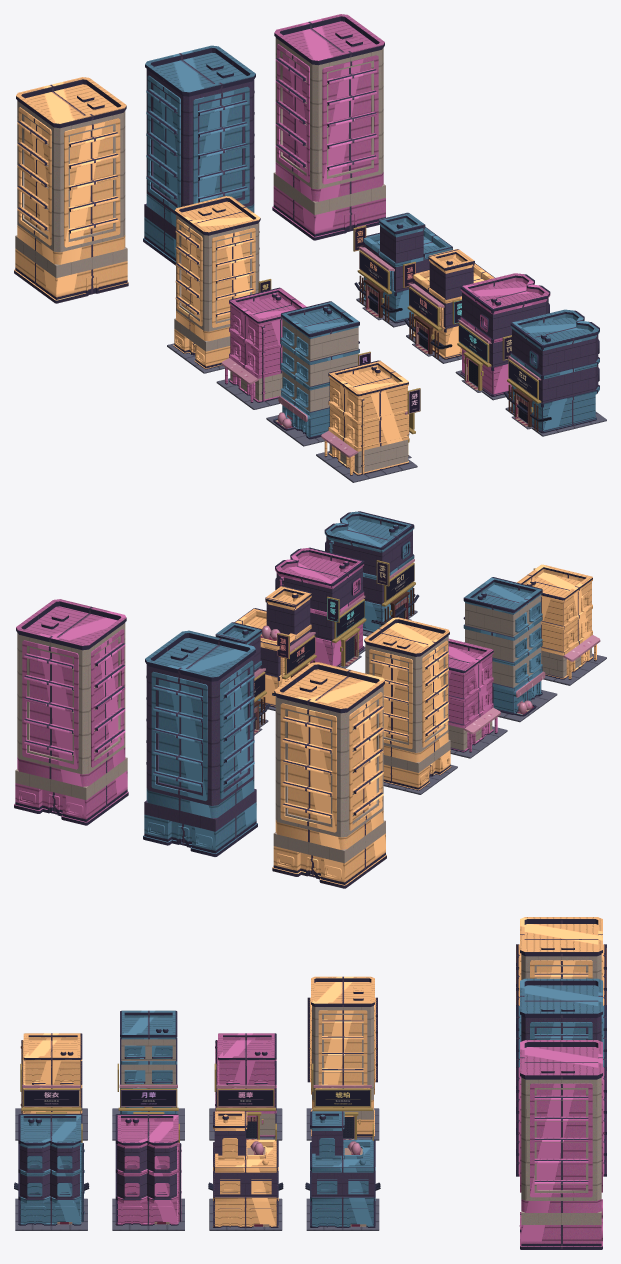
Rendered from buildings.raw.glb.
3 views of the same model, one above another, from view 1: azimuth 30°, elevation 25°; view 2: azimuth 150°, elevation 25°; view 3: azimuth 270°, elevation 25° (orthographic). The views are drawn at different scales.
Parts seen in each view (by area): view 1: background-tower-0, background-tower-2, background-tower-1, vip, tea, atelier, cabaret, nightclub, hostess, izakaya, oiran; view 2: background-tower-2, background-tower-0, background-tower-1, vip, cabaret, nightclub, tea, atelier, hostess, oiran, izakaya; view 3: background-tower-2, vip, tea, nightclub, izakaya, oiran, cabaret, hostess, background-tower-1, background-tower-0, atelier.
Part boxes in pixels (<box>): background-tower-0: <box>14,77,128,303</box>; background-tower-2: <box>272,14,385,240</box>; background-tower-1: <box>143,45,255,265</box>; vip: <box>167,196,271,373</box>; tea: <box>502,309,606,436</box>; atelier: <box>316,360,420,482</box>; cabaret: <box>266,301,370,446</box>; nightclub: <box>452,273,550,400</box>; hostess: <box>216,287,306,409</box>; izakaya: <box>353,212,452,327</box>; oiran: <box>403,249,494,363</box>; background-tower-2: <box>14,599,128,825</box>; background-tower-0: <box>272,662,386,888</box>; background-tower-1: <box>143,630,257,856</box>; vip: <box>364,617,457,794</box>; cabaret: <box>463,577,557,722</box>; nightclub: <box>275,547,366,668</box>; tea: <box>324,511,419,636</box>; atelier: <box>517,564,606,685</box>; hostess: <box>448,638,507,758</box>; oiran: <box>235,586,316,710</box>; izakaya: <box>215,622,269,735</box>; background-tower-2: <box>516,1040,606,1249</box>; vip: <box>306,976,379,1140</box>; tea: <box>14,1114,89,1230</box>; nightclub: <box>112,1114,184,1230</box>; izakaya: <box>305,1111,380,1230</box>; oiran: <box>208,1111,283,1230</box>; cabaret: <box>112,1010,184,1140</box>; hostess: <box>209,1033,282,1140</box>; background-tower-1: <box>516,978,606,1067</box>; background-tower-0: <box>516,917,606,1005</box>; atelier: <box>15,1033,87,1140</box>.
Bounding box in the file's own units: 31.5 × 15.88 × 48.85.
Materials: 3 (3 with a texture image).
